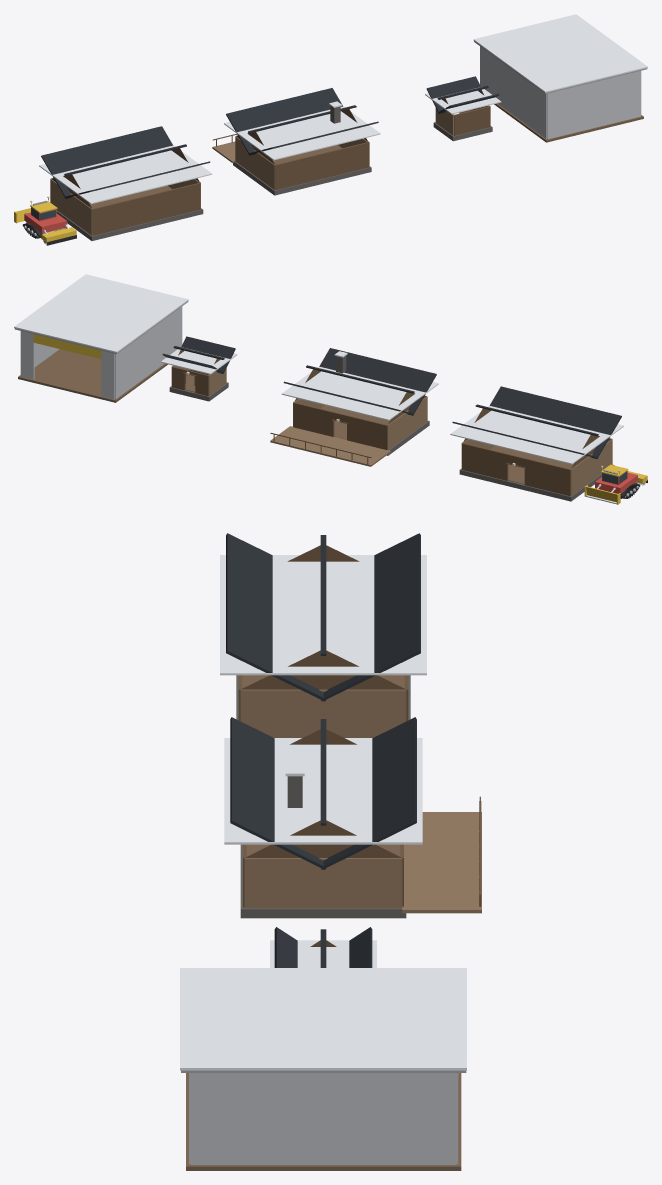
The model's file is buildings.glb.
3 views of the same model, one above another, from view 1: azimuth 30°, elevation 25°; view 2: azimuth 150°, elevation 25°; view 3: azimuth 270°, elevation 25° (orthographic). The views are drawn at different scales.
Parts seen in each view (by area): view 1: bld_garage, bld_rental, bld_cafe, bld_booth, groomer; view 2: bld_garage, bld_rental, bld_cafe, bld_booth, groomer; view 3: bld_garage, bld_cafe, bld_rental, bld_booth.
Boxes of the visible parts, <box> form: bld_garage: <box>473,14,647,142</box>; bld_rental: <box>39,126,212,240</box>; bld_cafe: <box>212,88,380,195</box>; bld_booth: <box>425,76,501,141</box>; groomer: <box>14,196,76,245</box>; bld_garage: <box>14,274,188,402</box>; bld_rental: <box>450,386,623,501</box>; bld_cafe: <box>270,348,438,466</box>; bld_booth: <box>161,336,237,401</box>; groomer: <box>584,464,647,504</box>; bld_garage: <box>180,968,466,1170</box>; bld_cafe: <box>224,717,481,918</box>; bld_rental: <box>220,533,426,737</box>; bld_booth: <box>270,927,376,967</box>.
Size of the model in its own units: 81.11 by 8.64 by 18.2.
